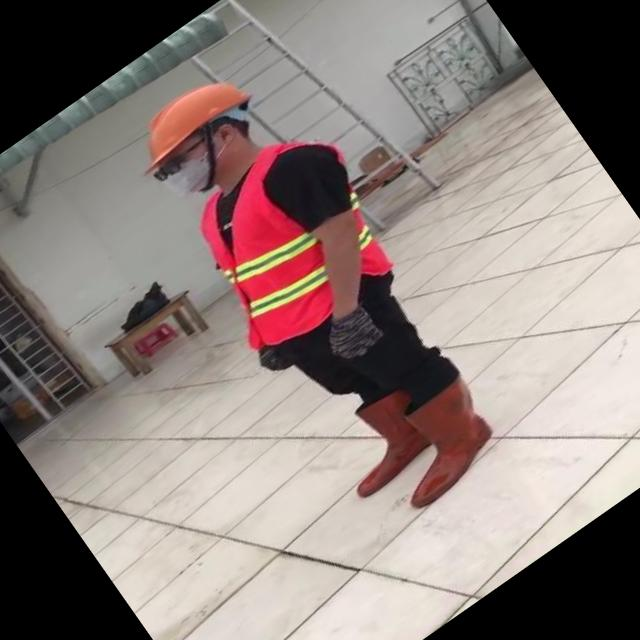hard_hat: (122, 56, 258, 172)
safety_vest: (164, 110, 412, 358)
vehicle: (89, 31, 545, 556)
work_boots: (306, 362, 464, 509), (366, 373, 510, 513)
